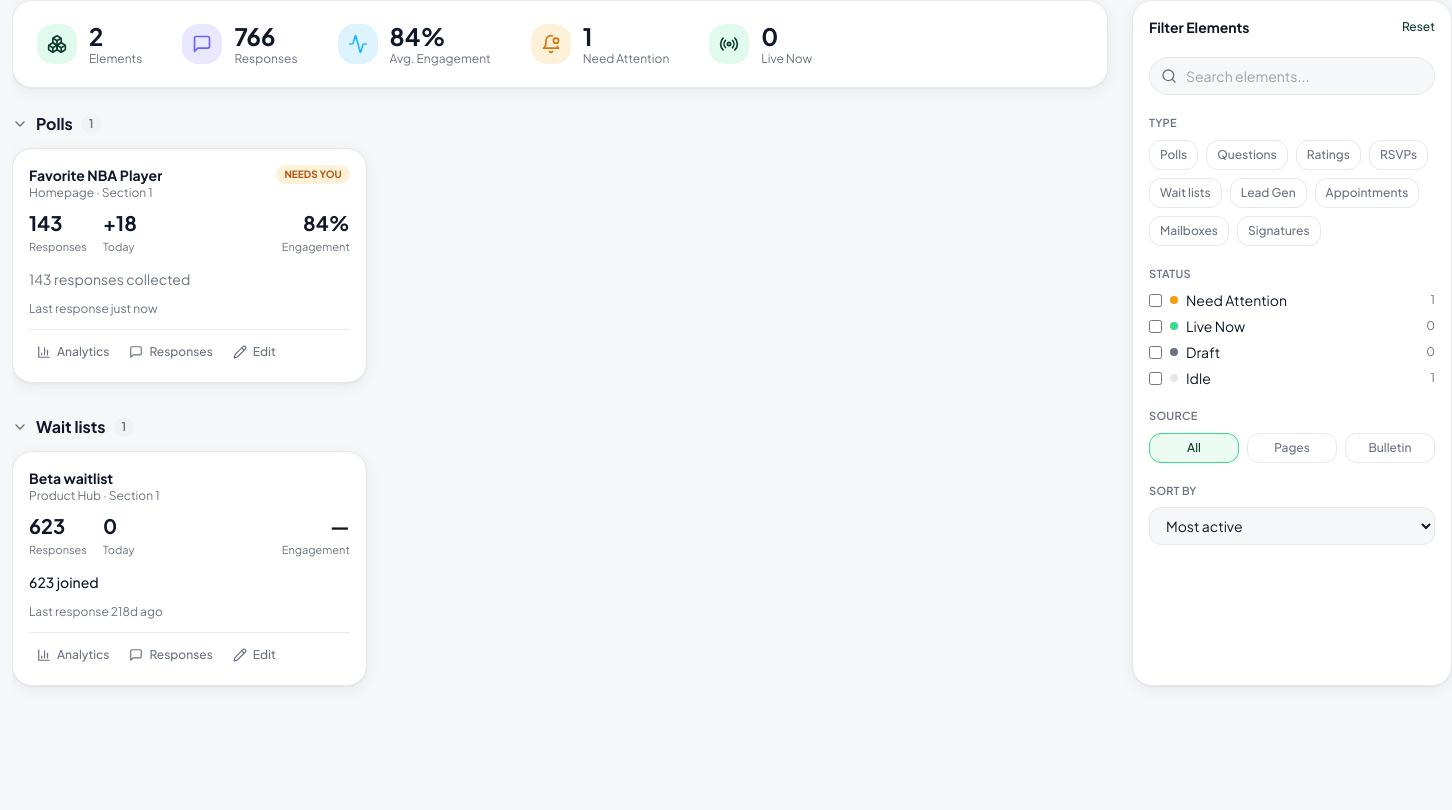
Test: InteractionsTab › filters by search
Check: the text "Favorite NBA Player" is shown, box [29, 165, 162, 185]
Type "beta" into the field with placeholder "Search elements..." at (1292, 76), box [1149, 57, 1435, 95]
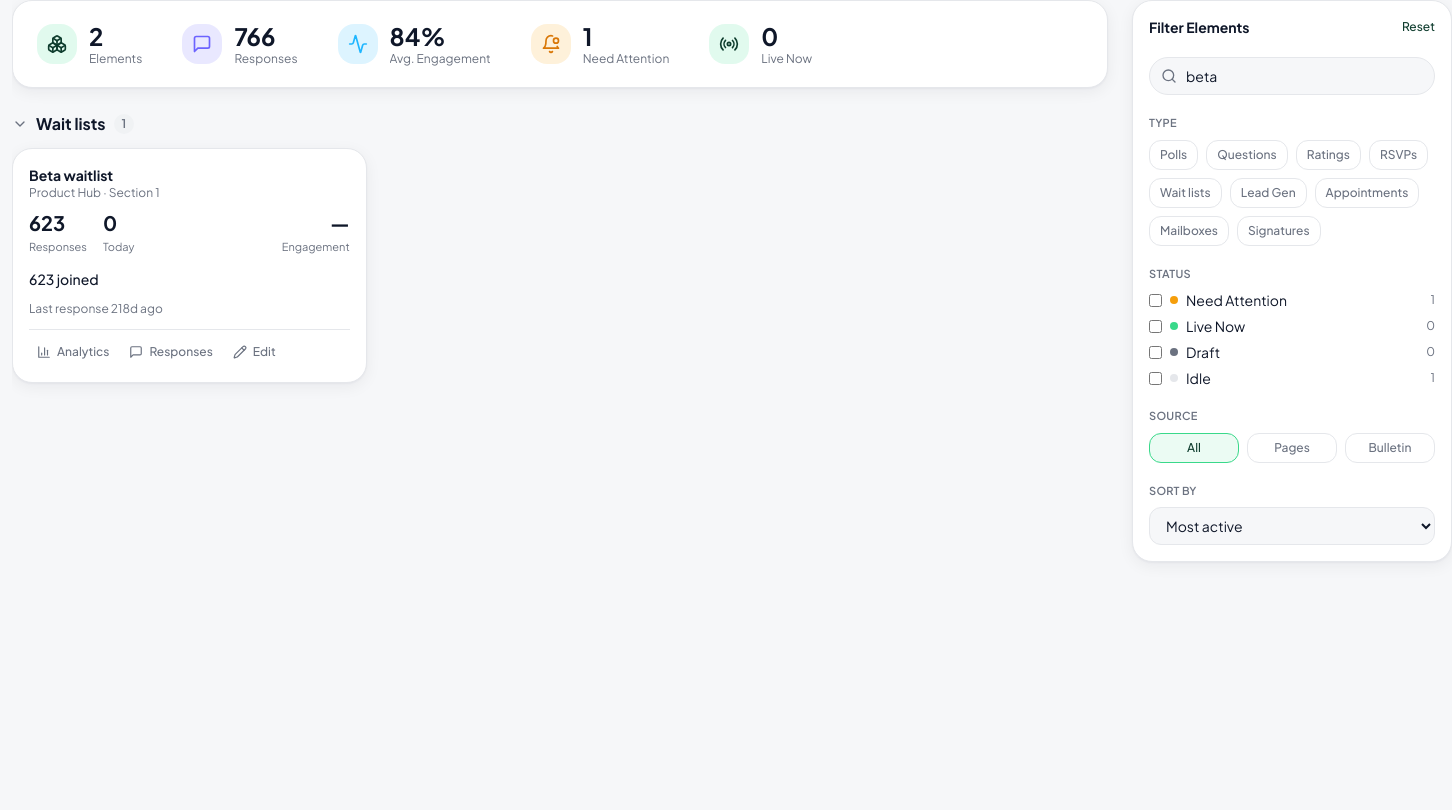
Check: the text "Beta waitlist" is shown, box [29, 166, 113, 184]
Check: the text "Favorite NBA Player" is gone
